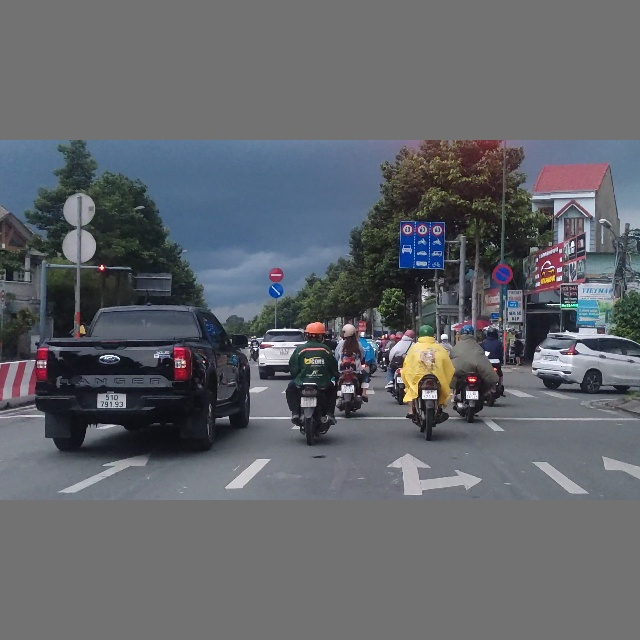P.102: (269, 267, 284, 283)
P.131a: (492, 263, 512, 284)
R.302a: (269, 283, 284, 298)
R.415a: (398, 219, 448, 271)
